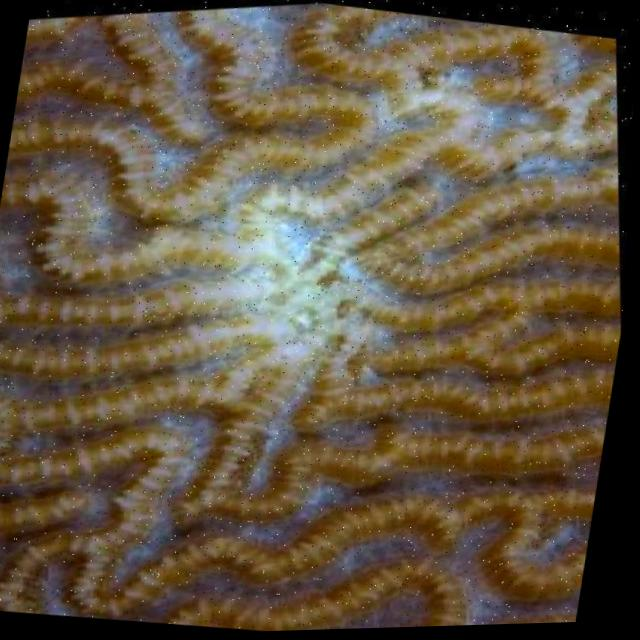Bleached Coral: (72, 0, 640, 303), (131, 139, 428, 416)
